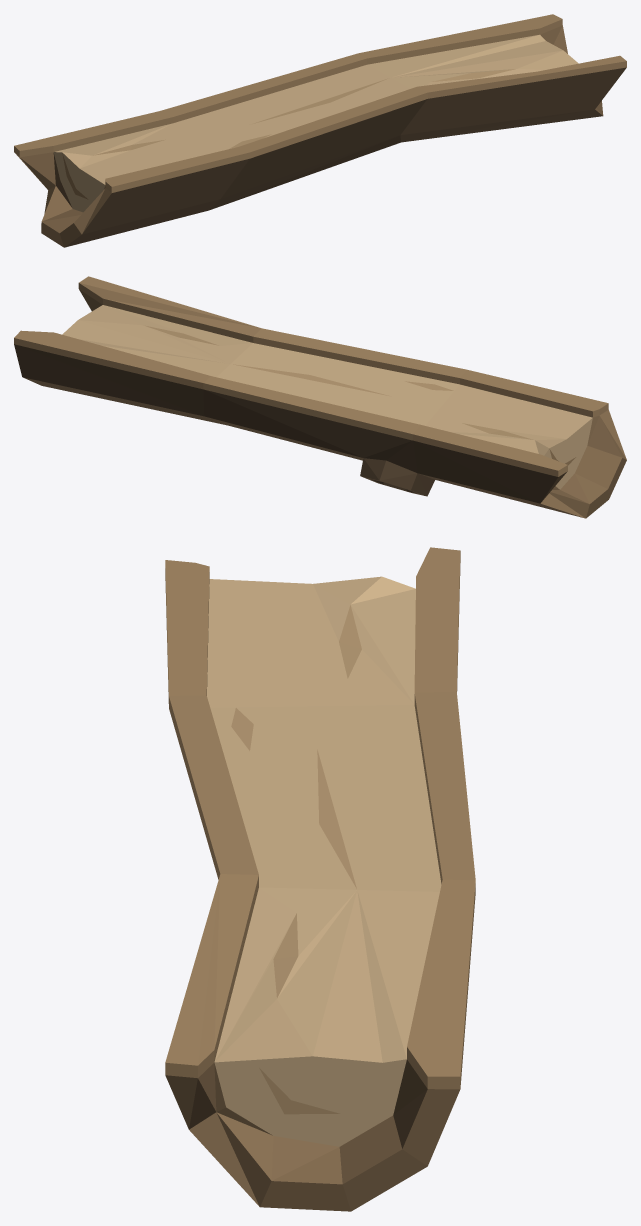
File: SM_Prop_Loghalf_01.fbx
3 renders of one model, top to bottom at view 1: azimuth 30°, elevation 25°; view 2: azimuth 150°, elevation 25°; view 3: azimuth 270°, elevation 25°, orthographic. The views are drawn at different scales.
Visible parts, largest first — view 1: SM_Prop_Loghalf_01; view 2: SM_Prop_Loghalf_01; view 3: SM_Prop_Loghalf_01.
Boxes of the visible parts, box(x1,y1,x2,y2) form: SM_Prop_Loghalf_01: box(14, 14, 626, 247); SM_Prop_Loghalf_01: box(14, 276, 626, 518); SM_Prop_Loghalf_01: box(165, 547, 475, 1211).
Bounding box in the file's own units: 0.0257 × 0.00429 × 0.00638.
1 material, 1 textured.
